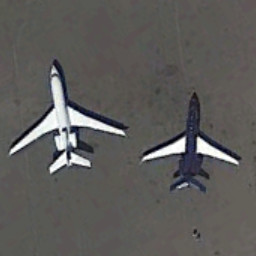Airplane: (5, 57, 130, 180), (133, 77, 250, 208)
